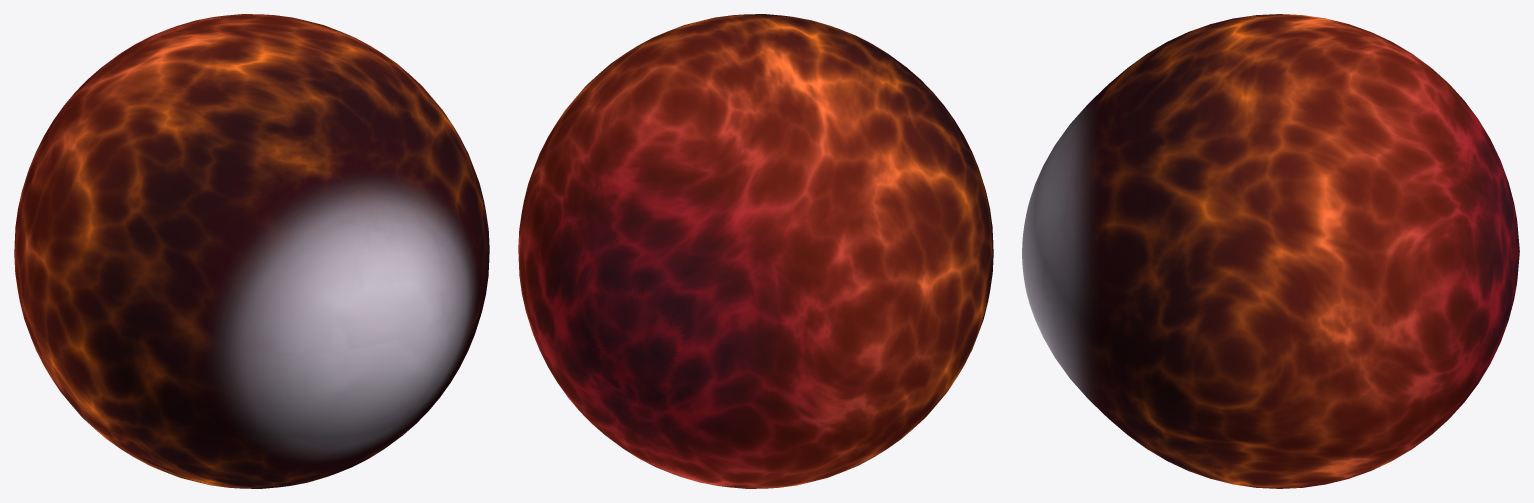
Rendered from RED-VILE-HATRED-eye-fin-01.fbx.
The picture shows the model from 3 angles, left to right: view 1: azimuth 30°, elevation 25°; view 2: azimuth 150°, elevation 25°; view 3: azimuth 270°, elevation 25°; orthographic projection.
Parts seen in each view (by area): view 1: eye-red-vile-hatred; view 2: eye-red-vile-hatred; view 3: eye-red-vile-hatred.
Boxes of the visible parts, x1,y1,x2,y2 form: eye-red-vile-hatred: [14, 14, 489, 488]; eye-red-vile-hatred: [518, 14, 993, 488]; eye-red-vile-hatred: [1022, 14, 1519, 488].
Bounding box in the file's own units: 197 × 197 × 207.
2 materials, 2 textured.
